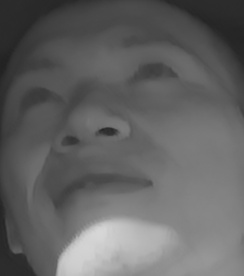eye: (126, 57, 180, 89), (20, 84, 63, 113)
mouth: (45, 156, 159, 221)
